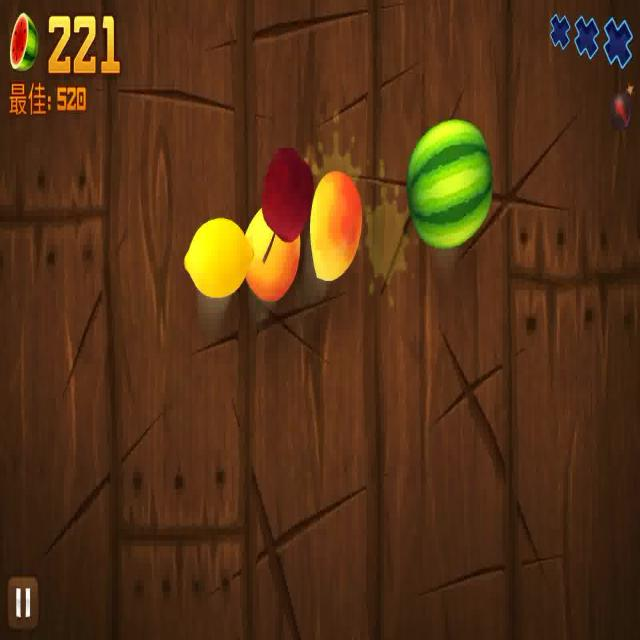fruit: (402, 109, 494, 254), (310, 163, 366, 285), (180, 211, 256, 295), (257, 144, 310, 262), (245, 208, 302, 302)
